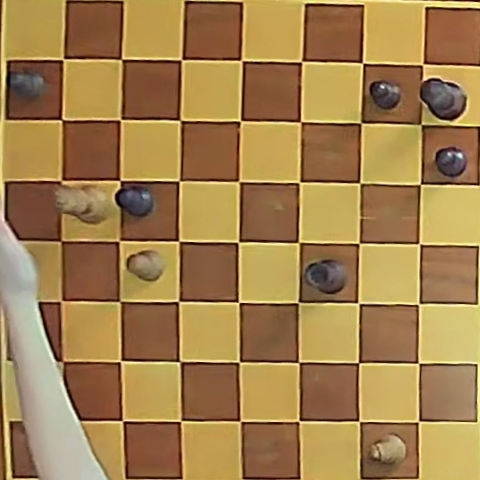black-king: (419, 78, 466, 120)
black-pawn: (116, 185, 153, 217), (10, 70, 47, 99), (434, 147, 466, 177), (370, 80, 402, 109)
black-rook: (305, 259, 346, 293)
white-bishop: (371, 435, 406, 464)
white-king: (56, 185, 110, 224)
white-pawn: (127, 250, 164, 281)
